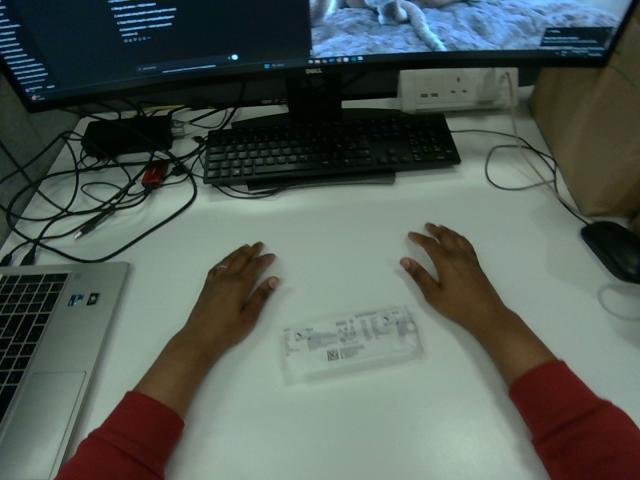syringe: (281, 306, 423, 383)
